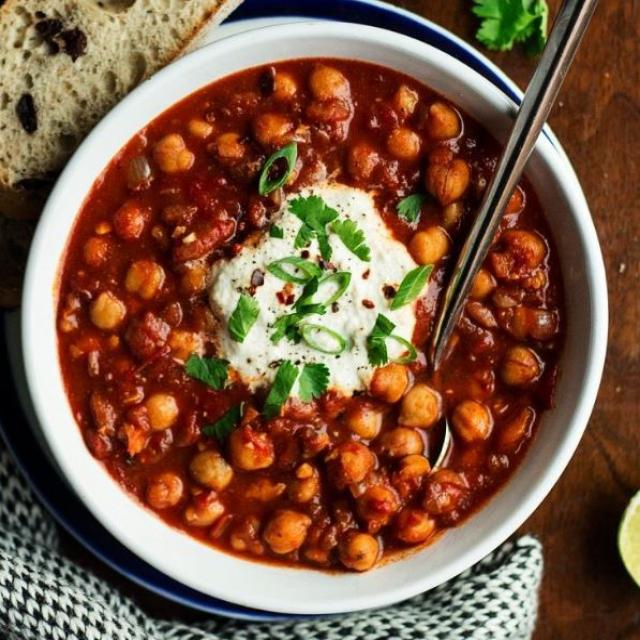Lablabi: (61, 67, 585, 614)
